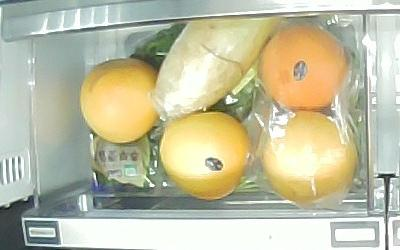grapefruit: (160, 112, 251, 200), (81, 59, 160, 142)
grapefruit_vinyl: (264, 111, 357, 202), (261, 26, 347, 110)
